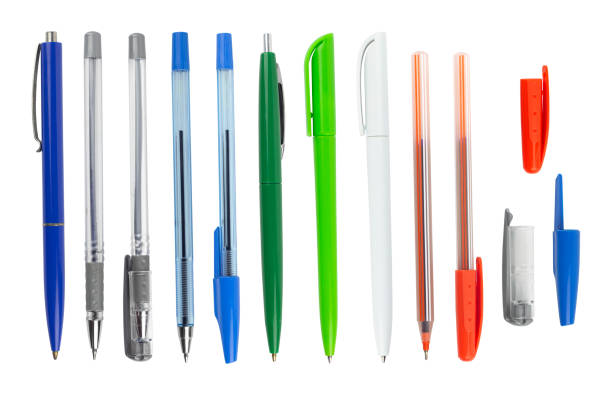pen: (301, 22, 349, 366), (447, 46, 492, 368), (26, 26, 69, 362), (355, 20, 396, 364), (120, 28, 159, 364), (253, 27, 291, 366), (402, 42, 440, 366), (211, 26, 246, 369), (168, 26, 201, 372), (78, 26, 110, 363)
